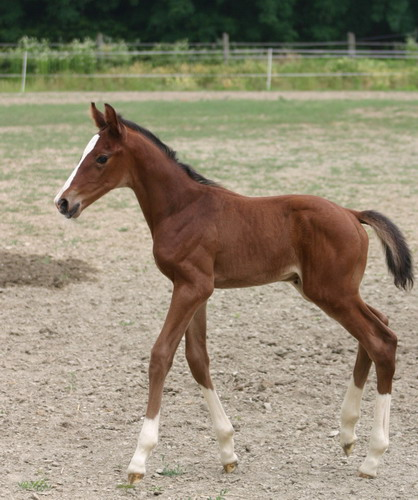horse: (49, 80, 418, 500)
